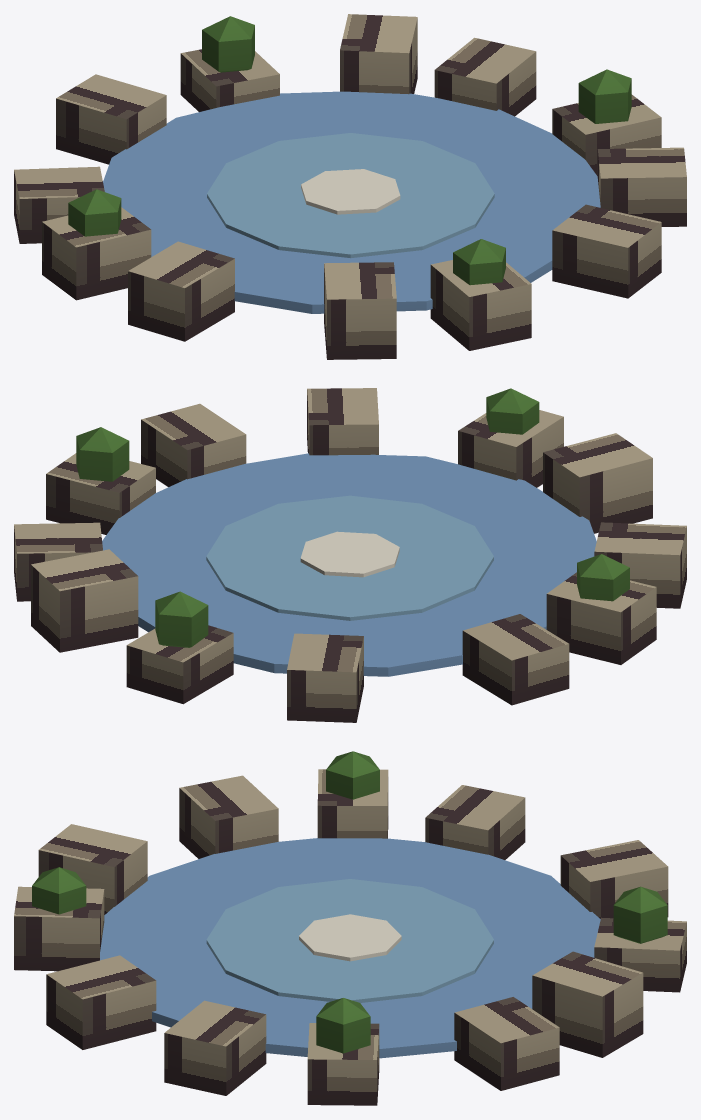
File: spring_basin.glb
3 renders of one model, top to bottom at view 1: azimuth 30°, elevation 25°; view 2: azimuth 150°, elevation 25°; view 3: azimuth 270°, elevation 25°, orthographic.
Parts seen in each view (by area): view 1: spring_basin; view 2: spring_basin; view 3: spring_basin.
Part boxes in pixels (<box>): spring_basin: <box>14,14,686,359</box>; spring_basin: <box>14,388,686,722</box>; spring_basin: <box>14,751,686,1105</box>.
Bounding box in the file's own units: 3.27 × 0.48 × 3.28.
3 materials, 1 textured.
